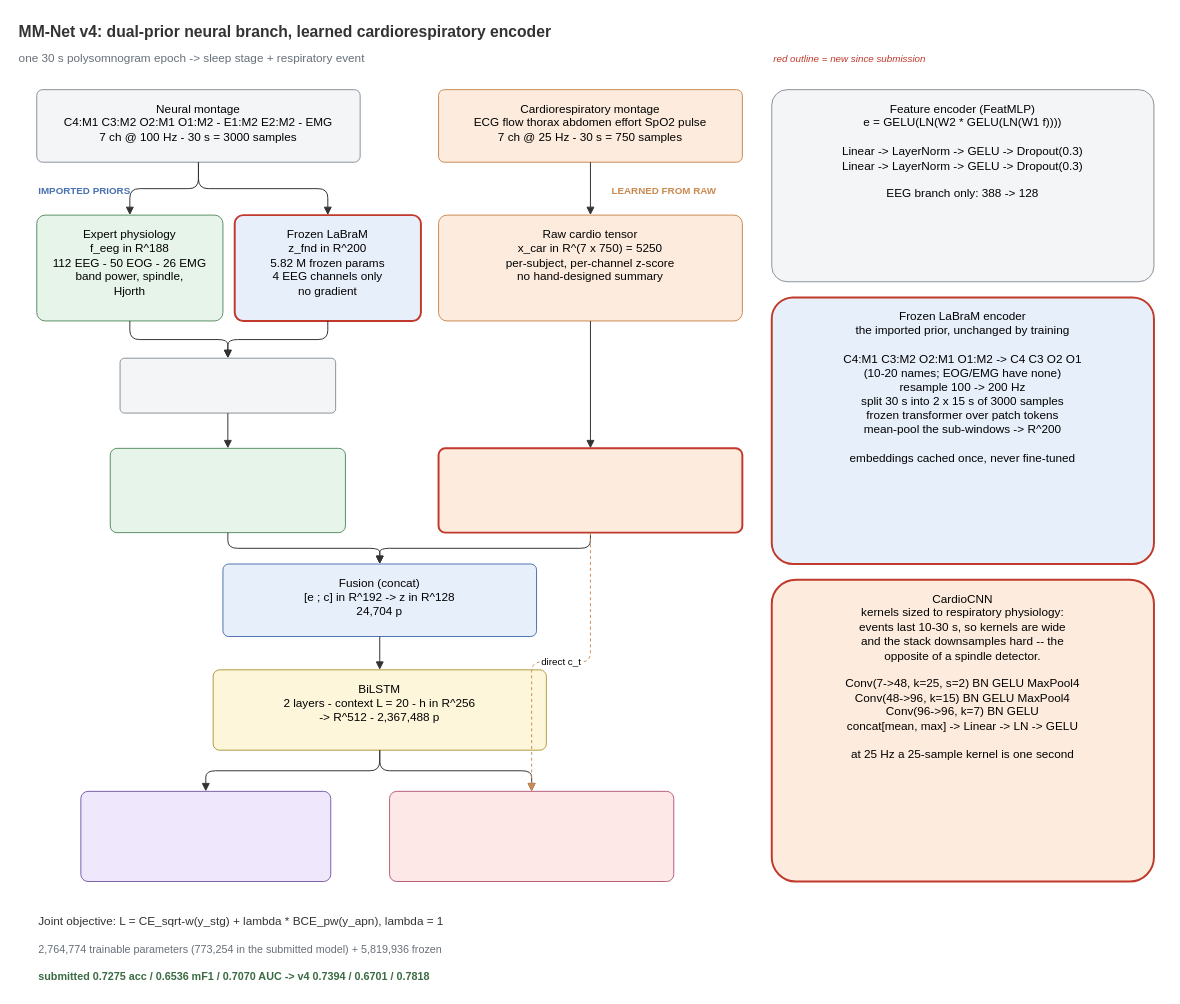
Some shapes in this 1180 by 1004 pixel diagram are drawn without their labels. The box of each missing label's shape, as (x1, y1, x2, y2) in pixels:
Cardio encoder phi_car CardioCNN 5250 -> 64 3 conv stages - 155,232 p: (437, 447, 743, 533)
concat (+) 388-d = 188 + 200: (119, 357, 336, 413)
EEG encoder phi_eeg FeatMLP 388 -> 128 66,816 p: (109, 447, 345, 533)
Respiratory head sigma(W_2 [h_t ; c_t]) direct cardio bypass 147,969 p: (389, 790, 674, 882)
Staging head softmax(W_s h_t) -> 5 classes + HMM Viterbi decode 2,565 p: (80, 790, 331, 882)
